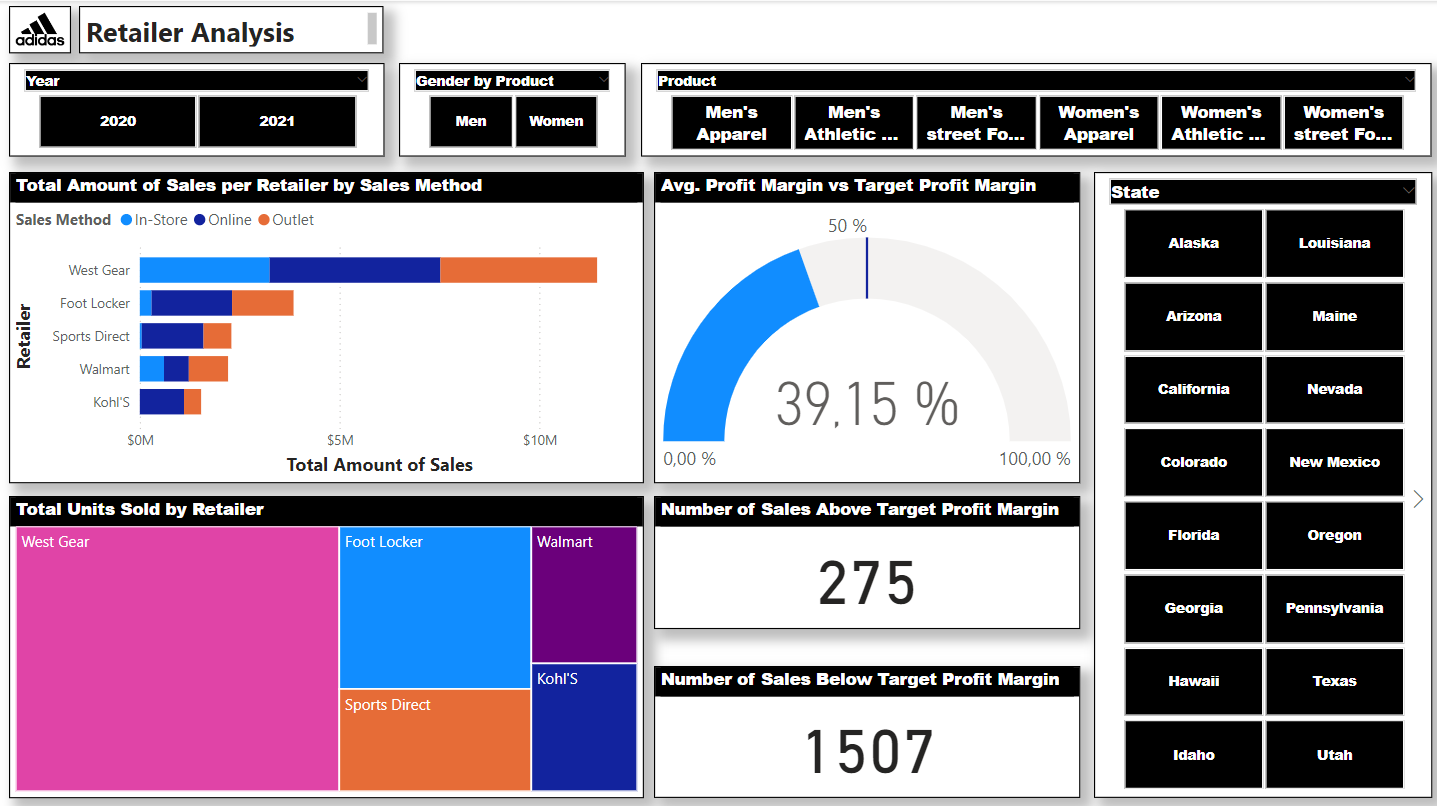

This screenshot's page, from the dashboard's own definition file:
{"tool":"powerbi","page":{"name":"Retailer Breakdown","canvas":[1280,720],"ordinal":2},"visuals":[{"type":"image","box":[9.8,4.4,55,41.7],"z":0},{"type":"textbox","box":[71.8,4.4,270.4,41.7],"z":1000},{"type":"barChart","title":"Total Amount of Sales per Retailer by Sales Method","fields":{"Category":["data_sales (1).Retailer"],"Series":["data_sales (1).Sales Method"],"Y":["Sum(data_sales (1).Total Amount of Sales)"]},"box":[9.8,151.6,563.1,275.8],"z":2000},{"type":"treemap","title":"Total Units Sold by Retailer","fields":{"Group":["data_sales (1).Retailer"],"Values":["Sum(data_sales (1).Units Sold)"]},"box":[9.8,438.9,563.1,267.8],"z":3000},{"type":"gauge","title":"Avg. Profit Margin vs Target Profit Margin","fields":{"Y":["Avg(data_sales (1).Profit Margin)"],"TargetValue":["data_sales (1).Target Profit Margin"],"MaxValue":["data_sales (1).Maximum Profit Margin"]},"box":[581.7,151.6,377.7,275.8],"z":4000},{"type":"card","title":"Number of Sales Above Target Profit Margin","fields":{"Values":["data_sales (1).Sales Above Target Profit Margin"]},"box":[581.7,438.9,377.7,117.9],"z":5000},{"type":"card","title":"Number of Sales Below Target Profit Margin","fields":{"Values":["data_sales (1).Sales Below Target Profit Margin"]},"box":[581.7,589.7,377.7,117],"z":6000},{"type":"slicer","fields":{"Values":["data_sales (1).Invoice Date.Variation.Date Hierarchy.Year"]},"box":[9.8,55,332.5,83.3],"z":7000},{"type":"slicer","fields":{"Values":["data_sales (1).Gender"]},"box":[355.6,55,201.3,83.3],"z":8000},{"type":"slicer","fields":{"Values":["data_sales (1).Product"]},"box":[570.1,55,701.4,83.3],"z":9000},{"type":"slicer","fields":{"Values":["data_sales (1).State"]},"box":[971.8,151.6,299.7,555.1],"z":10000}]}

Visuals, with their boxes in screenshot pixels (x1, y1, x2, y2), scaled from the page's 1280x720 canvas onto the 1437x806 screenshot:
image: bbox=(11, 5, 73, 52)
textbox: bbox=(81, 5, 384, 52)
"Total Amount of Sales per Retailer by Sales Method" barChart: bbox=(11, 170, 643, 478)
"Total Units Sold by Retailer" treemap: bbox=(11, 491, 643, 791)
"Avg. Profit Margin vs Target Profit Margin" gauge: bbox=(653, 170, 1077, 478)
"Number of Sales Above Target Profit Margin" card: bbox=(653, 491, 1077, 623)
"Number of Sales Below Target Profit Margin" card: bbox=(653, 660, 1077, 791)
slicer - data_sales (1).Invoice Date.Variation.Date Hierarchy.Year: bbox=(11, 62, 384, 155)
slicer - data_sales (1).Gender: bbox=(399, 62, 625, 155)
slicer - data_sales (1).Product: bbox=(640, 62, 1427, 155)
slicer - data_sales (1).State: bbox=(1091, 170, 1427, 791)
